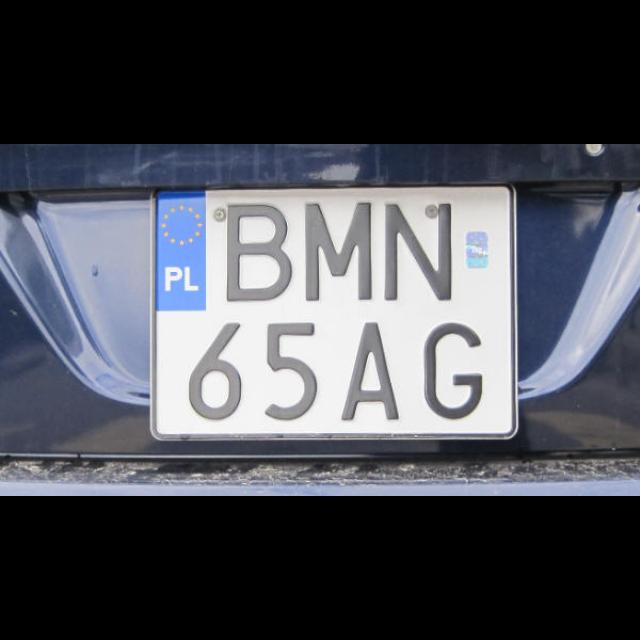pl_license_plate: (155, 191, 509, 433)
